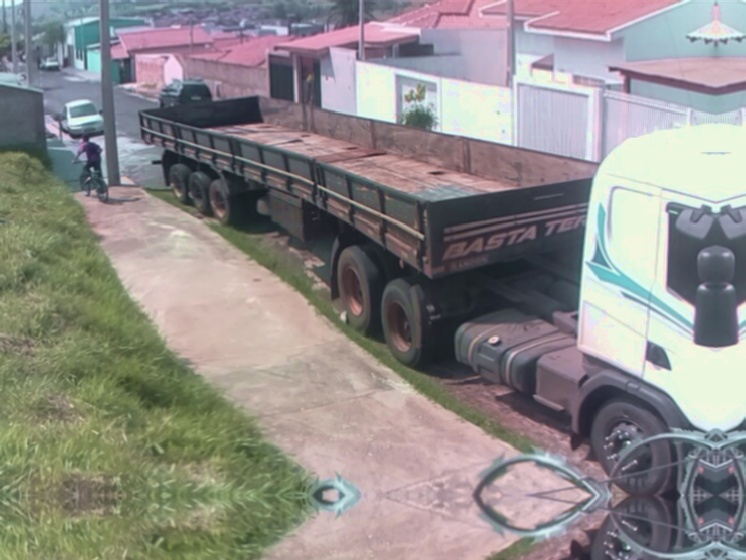person: (71, 134, 110, 192)
